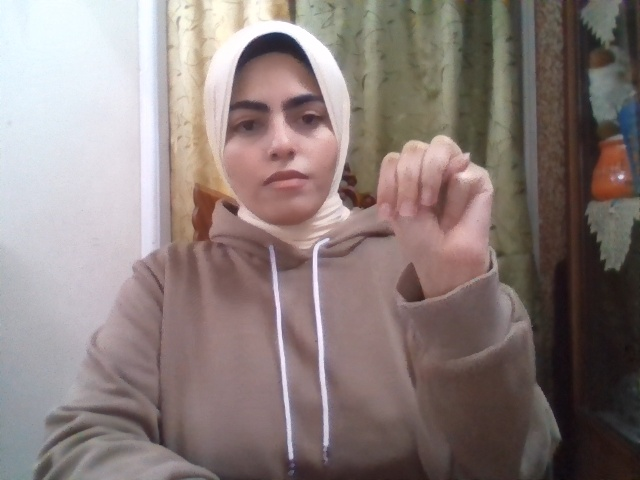M: (377, 135, 494, 270)
